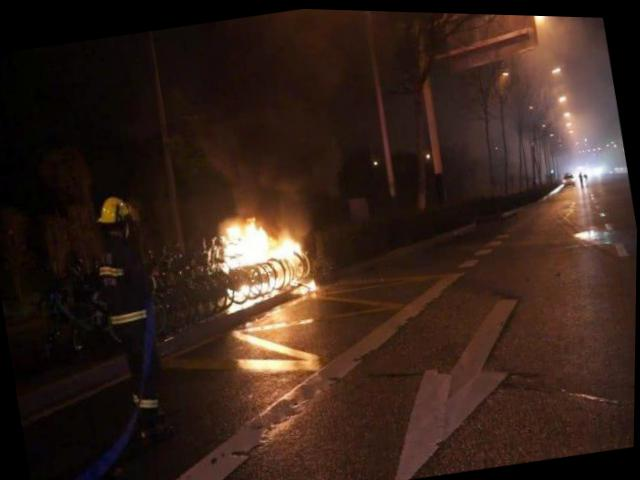fire: (203, 200, 324, 318)
